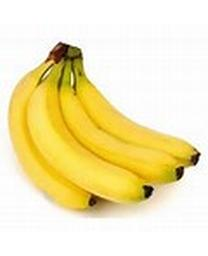banana: (5, 41, 201, 214)
